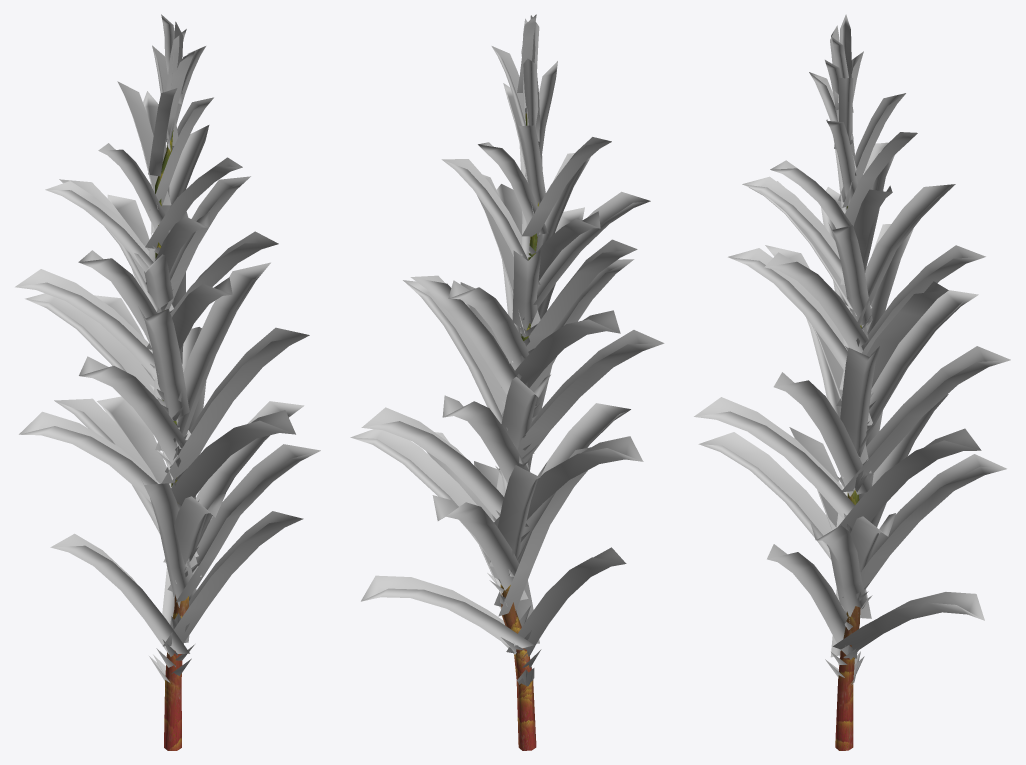
File: Plant5_1_L1.fbx
3 views of the same model, side by side, from view 1: azimuth 30°, elevation 25°; view 2: azimuth 150°, elevation 25°; view 3: azimuth 270°, elevation 25° (orthographic).
Visible parts, largest first — view 1: polySurface10; view 2: polySurface10; view 3: polySurface10.
Boxes of the visible parts, x1,y1,x2,y2 form: polySurface10: (15, 14, 320, 750); polySurface10: (350, 14, 664, 750); polySurface10: (694, 14, 1010, 750).
Size of the model in its own units: 247 by 599 by 237.
